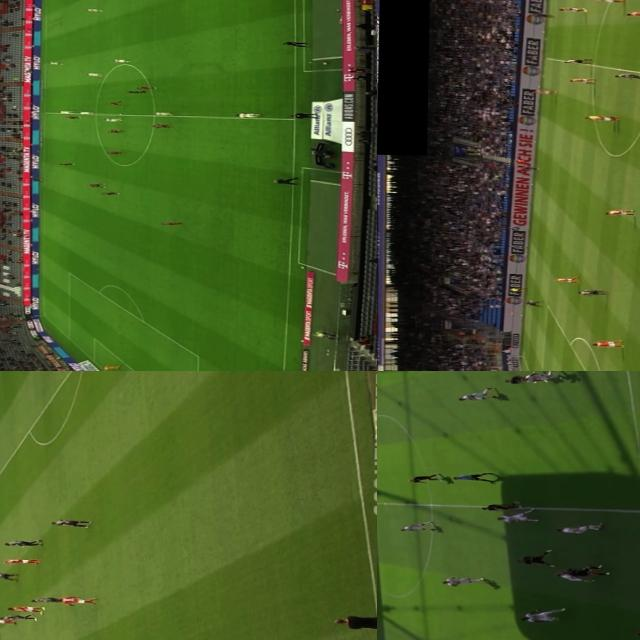ball: (116, 113, 122, 116)
player: (511, 548, 555, 566), (518, 606, 564, 622), (494, 508, 540, 523), (556, 564, 608, 577), (454, 387, 496, 402), (553, 523, 601, 536), (499, 372, 541, 386), (518, 371, 564, 383), (479, 501, 521, 514), (550, 570, 590, 582), (442, 574, 484, 585), (404, 472, 446, 483), (400, 520, 432, 534), (48, 518, 90, 527), (58, 596, 94, 606), (0, 613, 37, 622), (5, 604, 44, 612), (573, 288, 605, 297), (28, 596, 64, 604), (2, 558, 38, 566), (609, 71, 640, 80), (2, 539, 39, 546), (586, 339, 618, 347), (598, 209, 634, 216), (582, 115, 618, 122), (556, 6, 586, 14), (550, 276, 576, 284), (621, 10, 640, 20), (517, 300, 543, 307), (585, 0, 621, 5), (559, 58, 588, 64), (234, 112, 262, 118), (566, 77, 592, 83), (84, 182, 107, 188), (98, 365, 120, 371), (0, 571, 14, 580), (102, 100, 122, 106), (532, 88, 552, 94), (158, 220, 180, 225), (134, 86, 156, 90), (0, 617, 12, 624), (150, 123, 170, 127), (100, 190, 120, 194), (84, 8, 102, 12), (85, 73, 103, 77), (58, 162, 76, 166), (102, 117, 120, 121), (64, 116, 82, 120), (56, 110, 74, 114), (48, 60, 64, 64), (112, 59, 128, 63), (107, 130, 123, 134), (78, 111, 94, 115), (152, 112, 170, 115), (104, 152, 122, 154)
